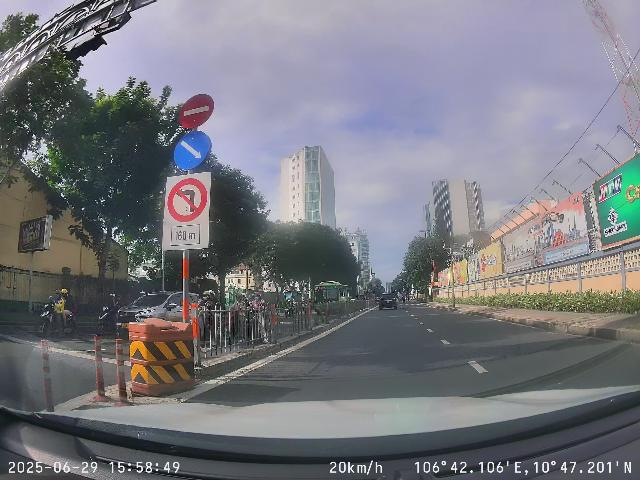102-cam-di-nguoc-chieu: (179, 93, 214, 129)
123a-cam-re-trai: (167, 178, 208, 223)
302a-huong-phai-di-vong-chuong-ngai-vat-1: (174, 130, 210, 169)
